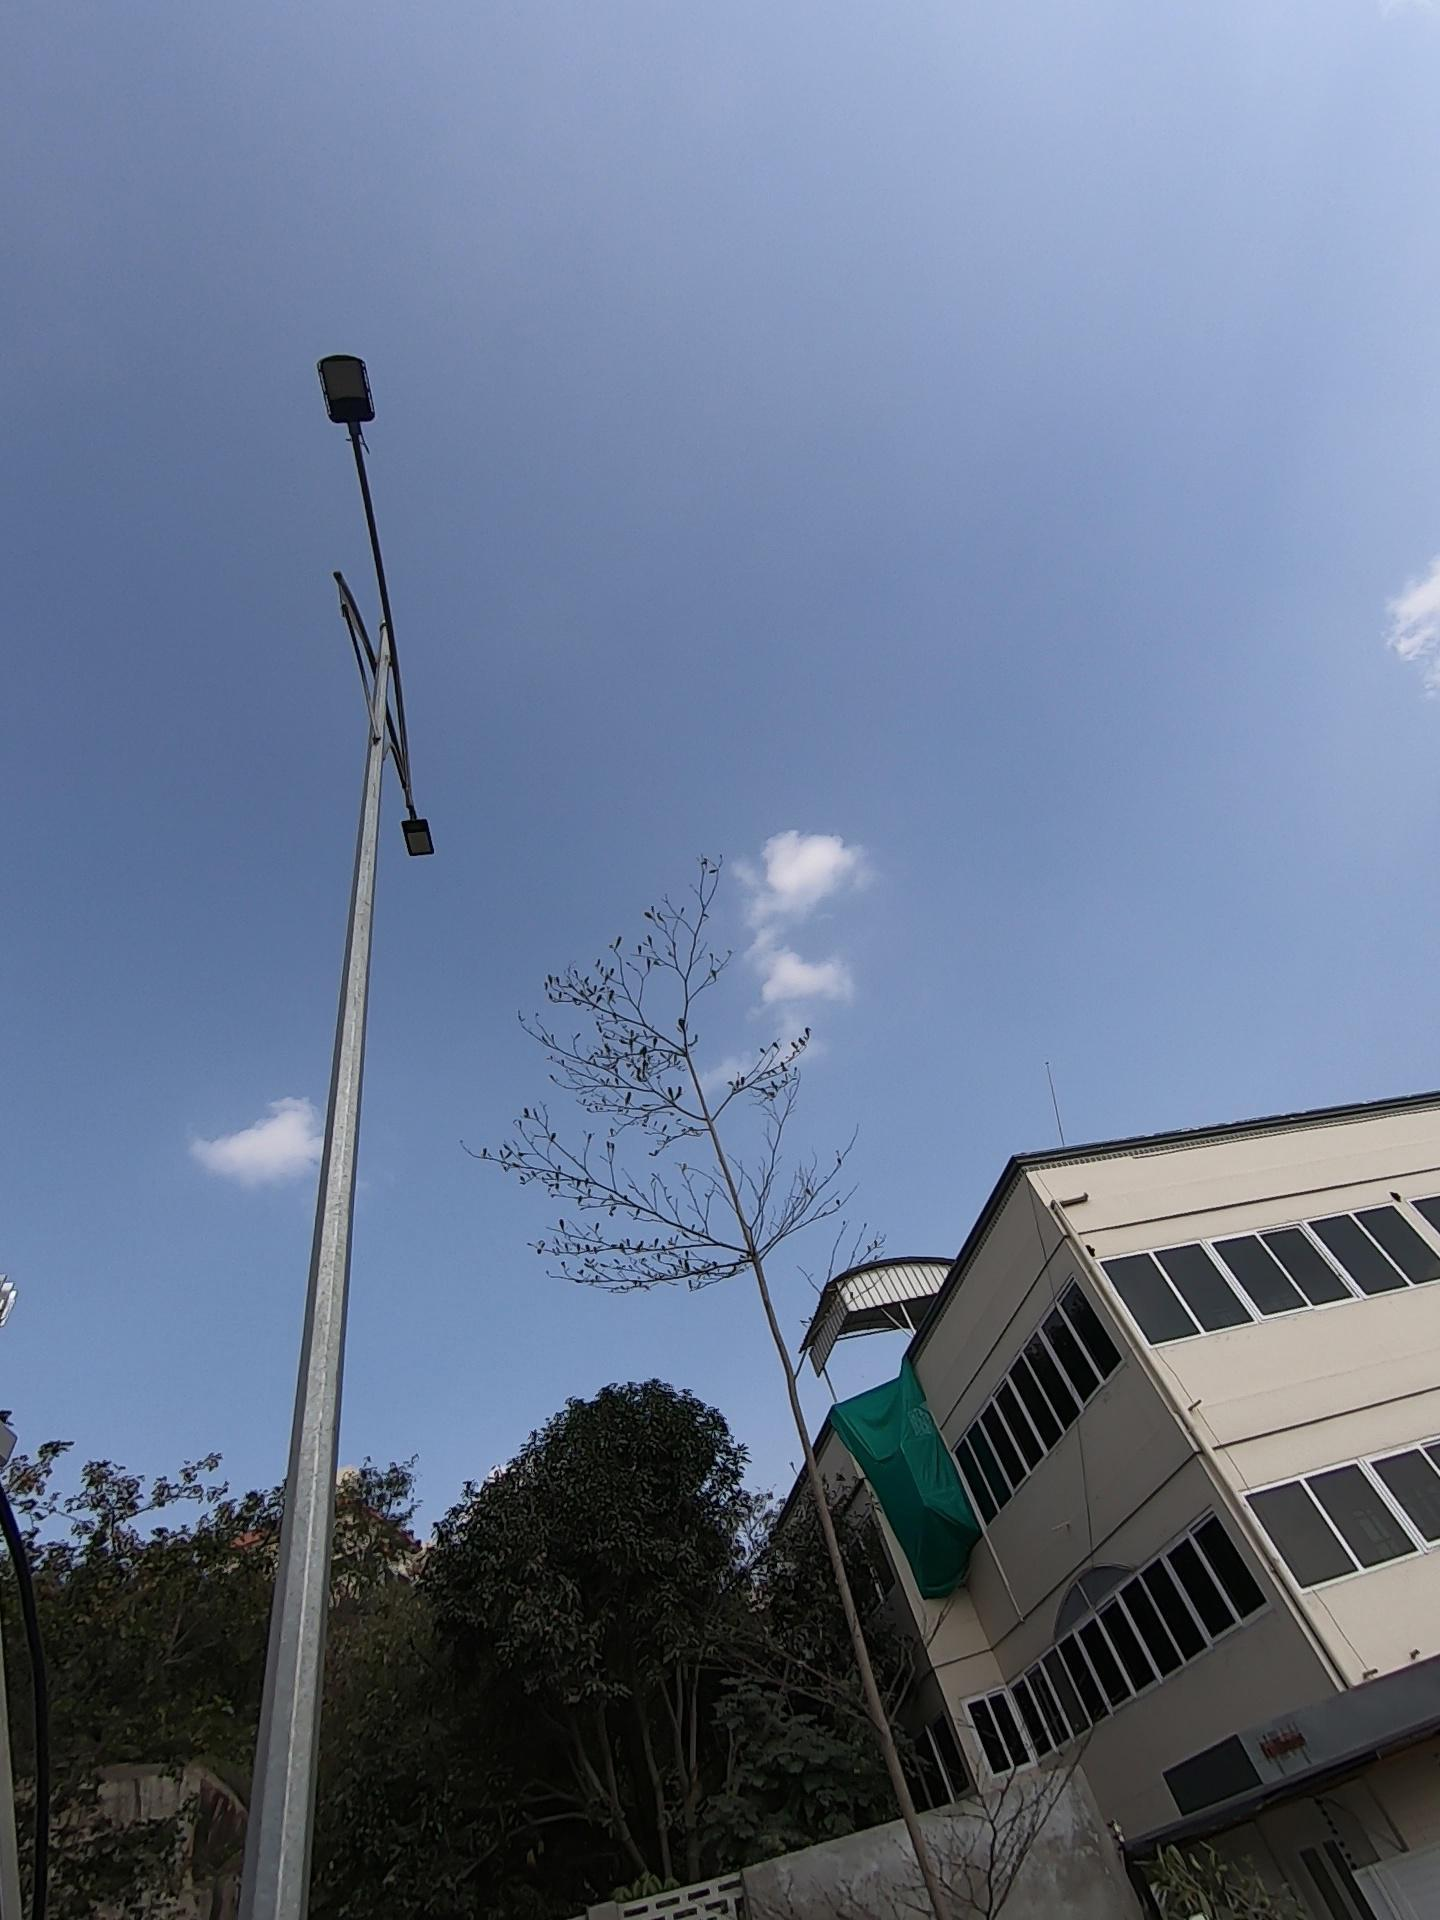off: (275, 321, 567, 927)
